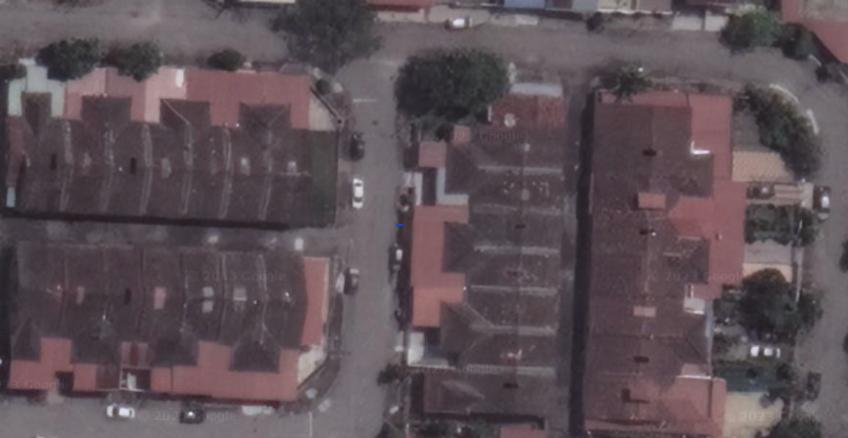building: (576, 369, 729, 437), (590, 101, 718, 175), (7, 237, 67, 365), (415, 368, 555, 422), (256, 243, 310, 376), (216, 246, 271, 375), (179, 241, 231, 369), (426, 326, 563, 373), (268, 98, 315, 233), (141, 238, 189, 370), (61, 239, 109, 367), (227, 95, 271, 233), (580, 329, 712, 375), (435, 283, 565, 329), (440, 240, 564, 288), (70, 89, 114, 223), (187, 95, 231, 229), (440, 163, 572, 207), (442, 121, 575, 164), (581, 293, 712, 336), (589, 211, 713, 256), (440, 203, 569, 246), (148, 93, 189, 228), (586, 172, 718, 213), (112, 91, 151, 227), (586, 255, 712, 296), (3, 88, 39, 222), (38, 88, 73, 222), (108, 236, 151, 344), (486, 93, 573, 123)
